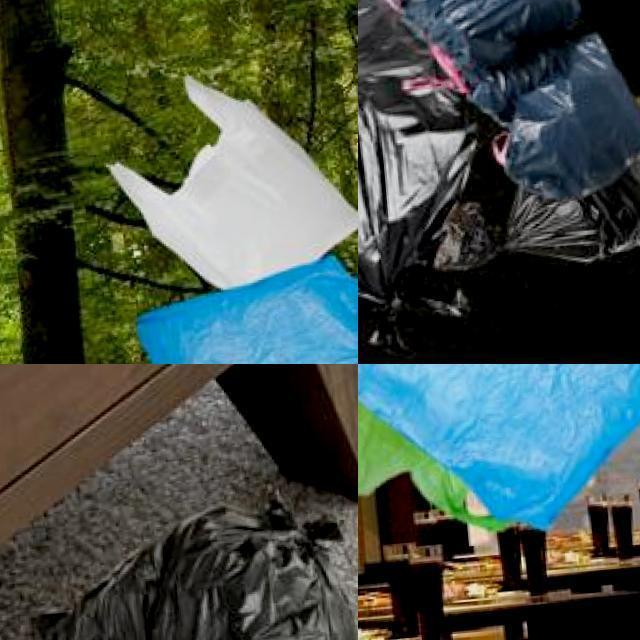waste: (98, 63, 358, 294), (358, 364, 640, 537), (32, 499, 358, 640), (358, 364, 483, 586), (486, 21, 640, 200), (125, 253, 358, 364), (383, 0, 595, 63)
